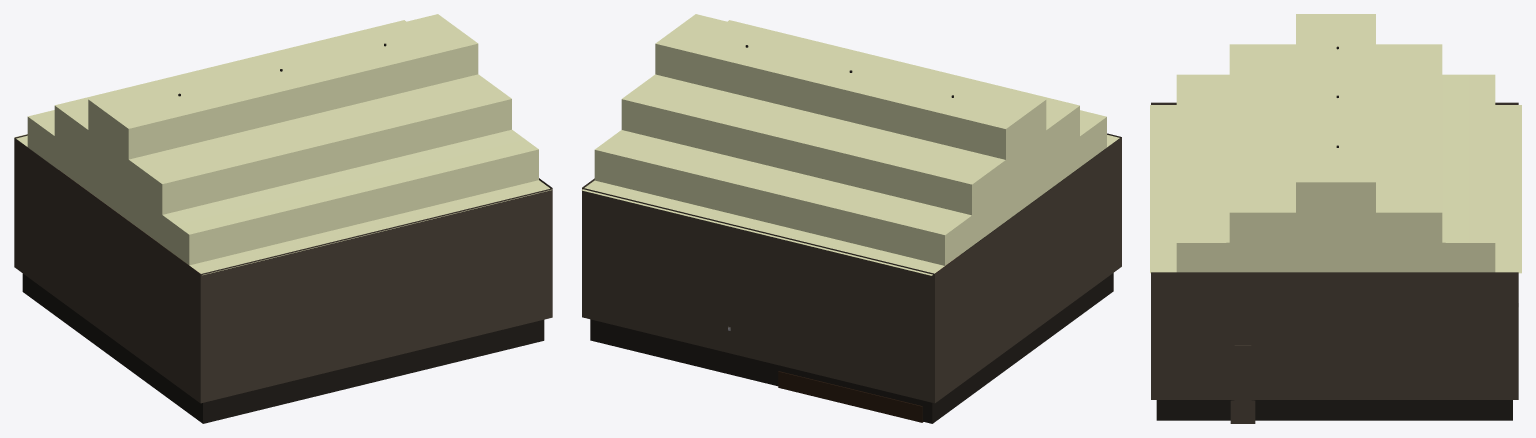
The model's file is Map.03.fbx.
3 renders of one model, left to right at view 1: azimuth 30°, elevation 25°; view 2: azimuth 150°, elevation 25°; view 3: azimuth 270°, elevation 25°, orthographic.
Visible parts, largest first — view 1: Ceiling, Floor; view 2: Ceiling, Floor, Cube.002; view 3: Ceiling, Floor, HalfWall.
Part boxes in pixels (x1=…): Ceiling: x1=14, y1=14, x2=551, y2=275; Floor: x1=14, y1=134, x2=552, y2=423; Ceiling: x1=581, y1=14, x2=1119, y2=275; Floor: x1=582, y1=133, x2=1121, y2=423; Cube.002: x1=778, y1=371, x2=923, y2=422; Ceiling: x1=1150, y1=14, x2=1521, y2=273; Floor: x1=1151, y1=102, x2=1518, y2=420; HalfWall: x1=1230, y1=345, x2=1255, y2=423.
Size of the model in its own units: 2408 by 1607 by 2225.
